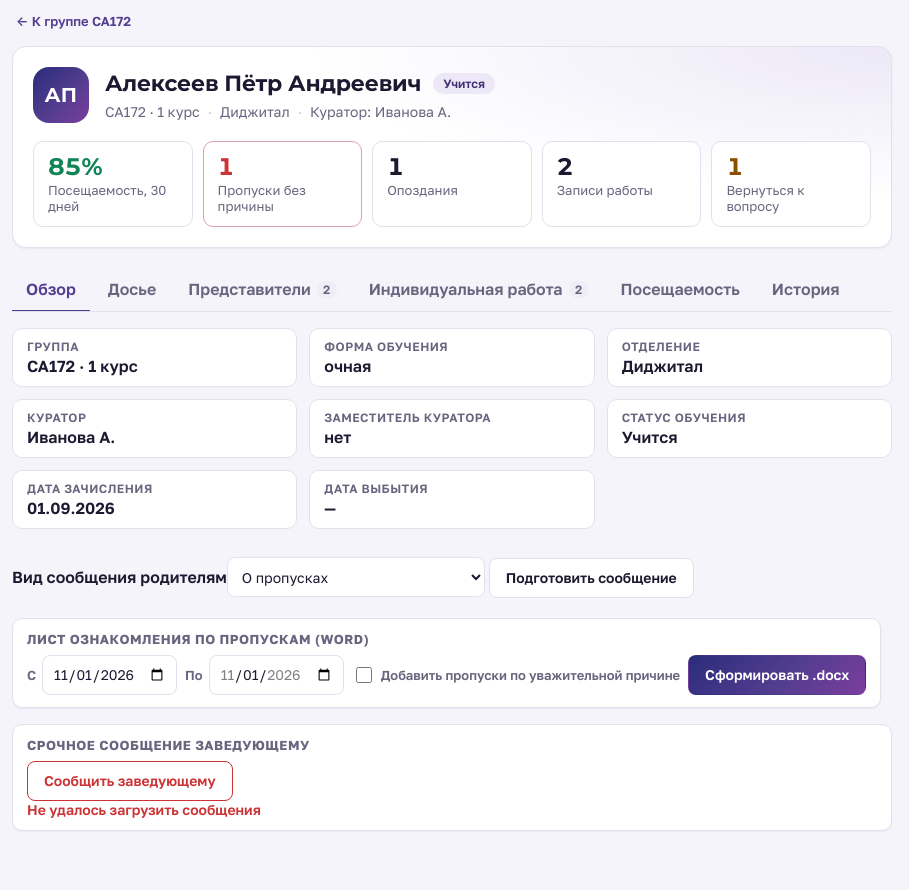
Scenario: StudentCardPage — просмотр › в карточке есть кнопка «Подготовить сообщение» — она запрашивает текст родителям по этому студенту
Click the button "Подготовить сообщение" at [591, 578], box [489,558,694,598]
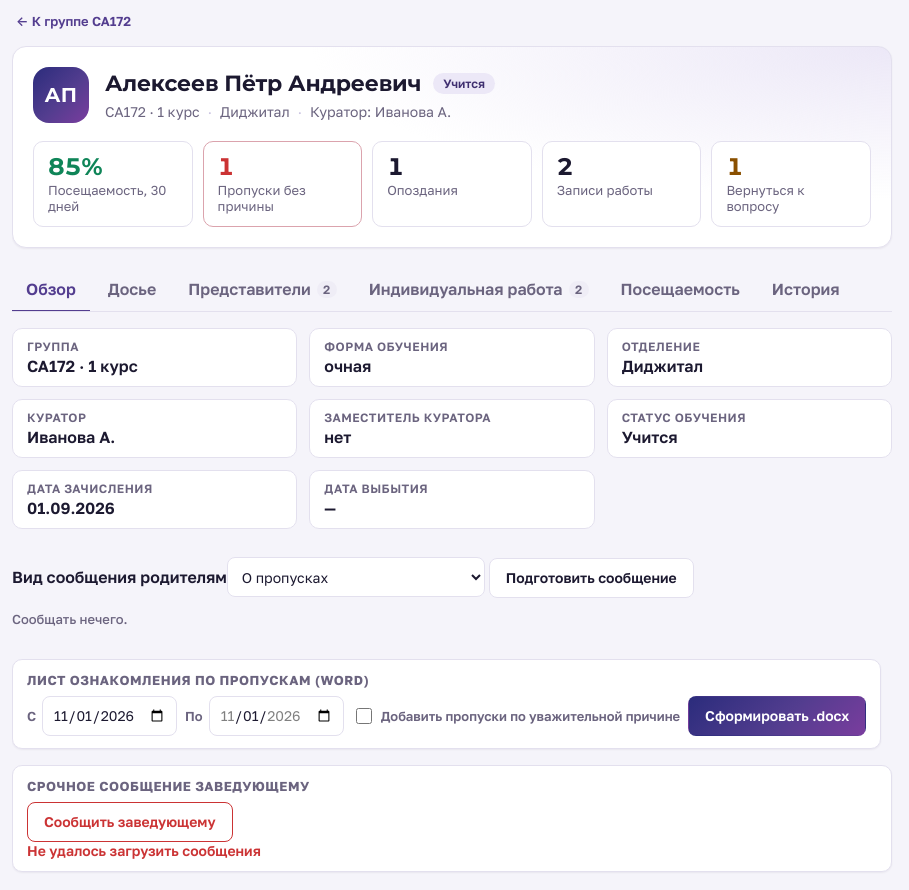
Check: the text "Сообщать нечего." is shown, box [12,611,128,627]
